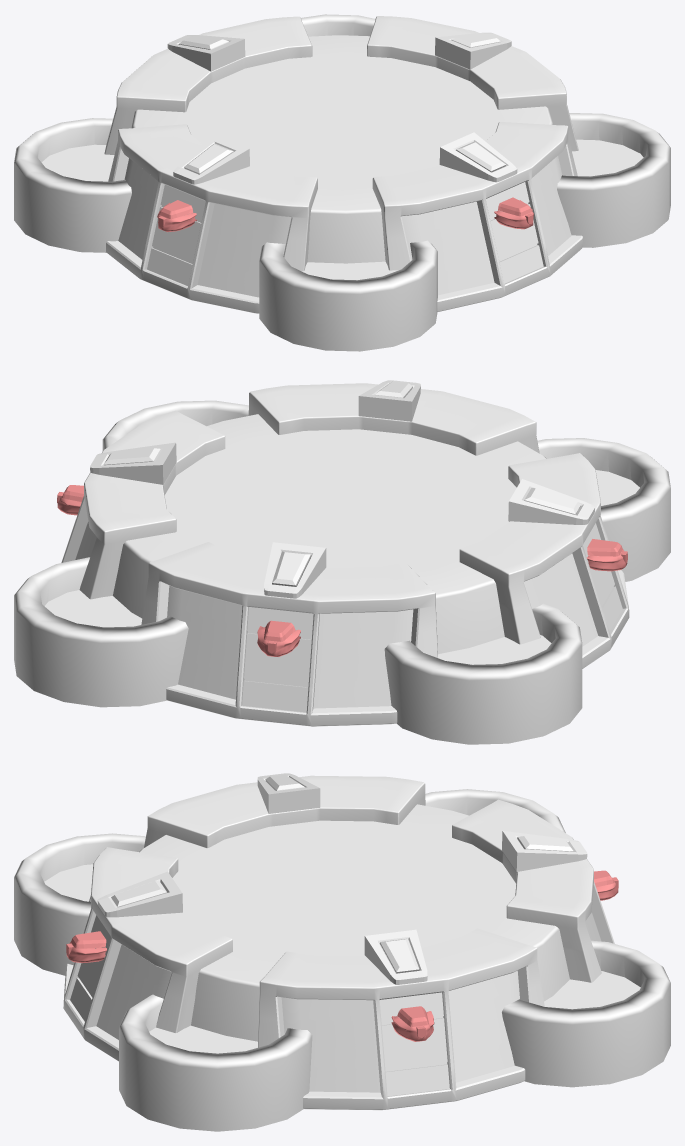
3 renders of one model, top to bottom at view 1: azimuth 30°, elevation 25°; view 2: azimuth 150°, elevation 25°; view 3: azimuth 270°, elevation 25°, orthographic. The views are drawn at different scales.
Visible parts, largest first — view 1: base, shape, bassin (×4), polySurface3 (×4), water (×3), polySurface2 (×2); view 2: base, shape, bassin (×4), polySurface3 (×4), water (×3), polySurface2 (×3), polySurface12 (×2), polySurface9; view 3: base, shape, bassin (×4), polySurface3 (×4), water (×3), polySurface2 (×3), polySurface12 (×2).
Boxes of the visible parts, x1=… form: base: x1=104, y1=16, x2=582, y2=313; shape: x1=131, y1=35, x2=553, y2=263; bassin (×4): x1=14, y1=14, x2=670, y2=351; polySurface3 (×4): x1=167, y1=32, x2=517, y2=184; water (×3): x1=41, y1=139, x2=643, y2=280; polySurface2 (×2): x1=184, y1=141, x2=505, y2=174; base: x1=61, y1=383, x2=629, y2=726; shape: x1=113, y1=414, x2=546, y2=654; bassin (×4): x1=14, y1=400, x2=670, y2=744; polySurface3 (×4): x1=90, y1=380, x2=594, y2=598; water (×3): x1=44, y1=470, x2=639, y2=664; polySurface2 (×3): x1=103, y1=448, x2=580, y2=586; polySurface12 (×2): x1=257, y1=549, x2=627, y2=656; polySurface9: x1=587, y1=539, x2=622, y2=556; base: x1=63, y1=775, x2=614, y2=1110; shape: x1=139, y1=804, x2=569, y2=1041; bassin (×4): x1=14, y1=789, x2=670, y2=1131; polySurface3 (×4): x1=97, y1=773, x2=587, y2=984; water (×3): x1=44, y1=864, x2=640, y2=1053; polySurface2 (×3): x1=111, y1=836, x2=573, y2=973; polySurface12 (×2): x1=66, y1=942, x2=434, y2=1041.
Bounding box in the file's own units: 22.13 × 4.86 × 22.13.
